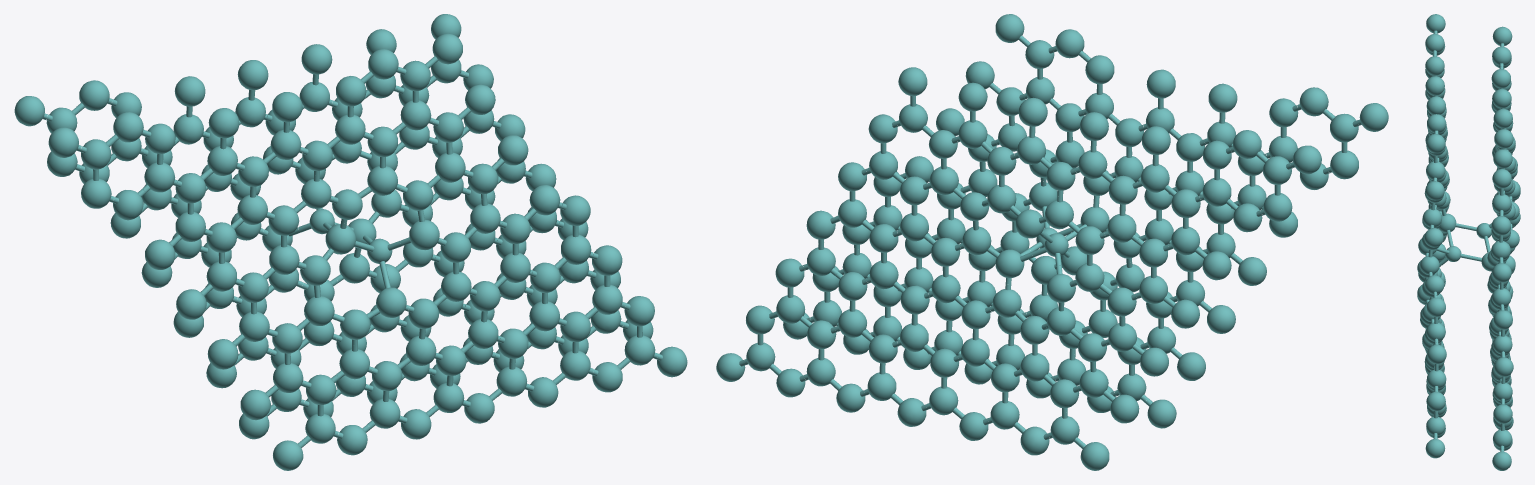
File: bigwCu.glb
3 views of the same model, side by side, from view 1: azimuth 30°, elevation 25°; view 2: azimuth 150°, elevation 25°; view 3: azimuth 270°, elevation 25° (orthographic). The views are drawn at different scales.
Visible parts, largest first — view 1: vmd_mol0_rep0, vmd_mol0_rep1; view 2: vmd_mol0_rep0, vmd_mol0_rep1; view 3: vmd_mol0_rep0, vmd_mol0_rep1.
Part boxes in pixels (x1=…): vmd_mol0_rep0: x1=14, y1=14, x2=687, y2=470; vmd_mol0_rep1: x1=43, y1=56, x2=662, y2=447; vmd_mol0_rep0: x1=716, y1=14, x2=1388, y2=470; vmd_mol0_rep1: x1=739, y1=35, x2=1361, y2=448; vmd_mol0_rep0: x1=1417, y1=14, x2=1520, y2=470; vmd_mol0_rep1: x1=1425, y1=30, x2=1512, y2=451.
Size of the model in its own units: 1.56 by 0.931 by 0.3361.
